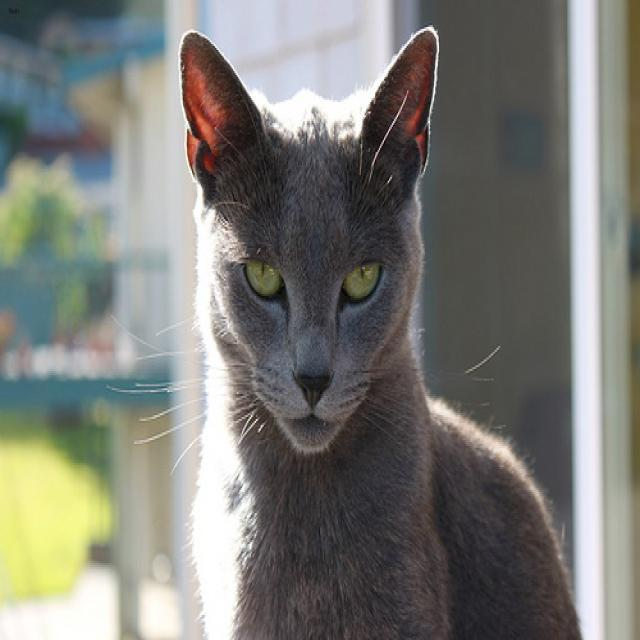Russian_Blue: (177, 22, 441, 456)
